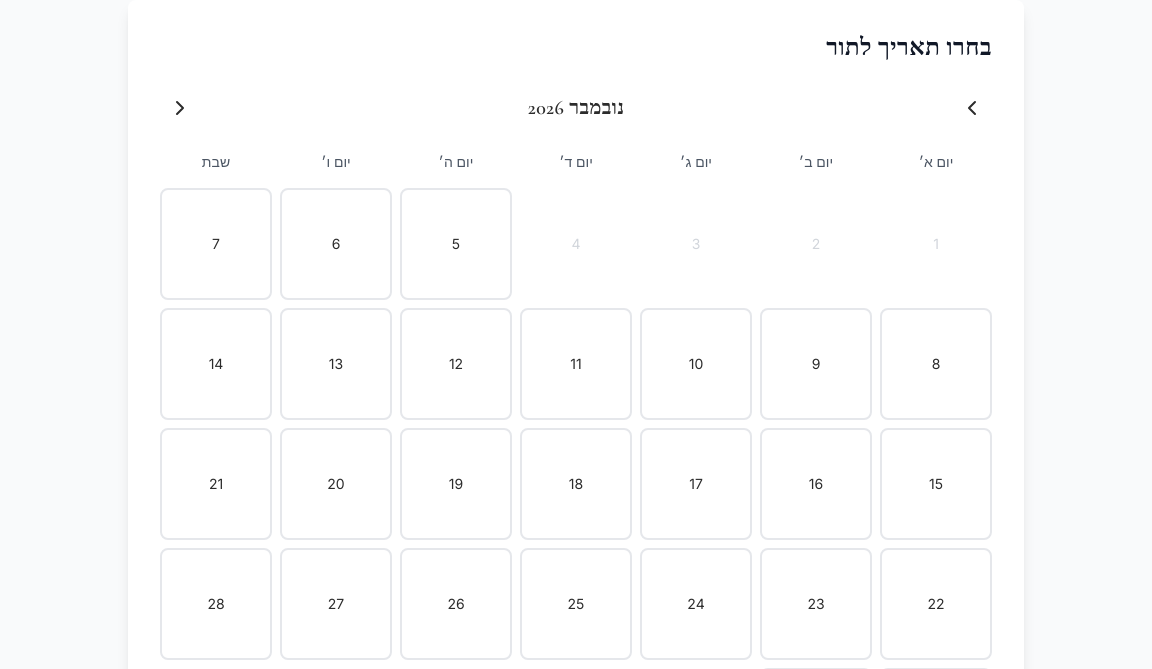
Test: Appointment calendar translations › shows translated labels and weekday names in he
Check: the heading "בחרו תאריך לתור" is shown, box [826,33,992,62]
Check: the button named "החודש הקודם" is shown, box [952,88,992,128]
Step 1. Click the button named "החודש הבא" → (180, 108), box [160,88,200,128]
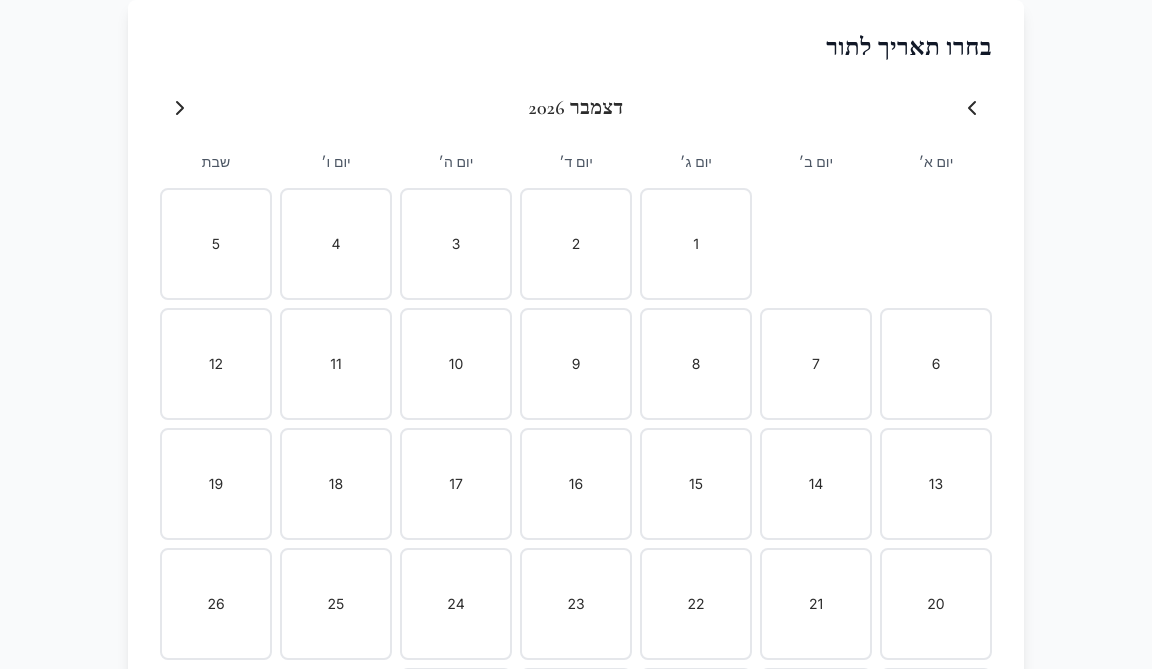
Step 2. Click the button named "החודש הבא" → (180, 108), box [160,88,200,128]
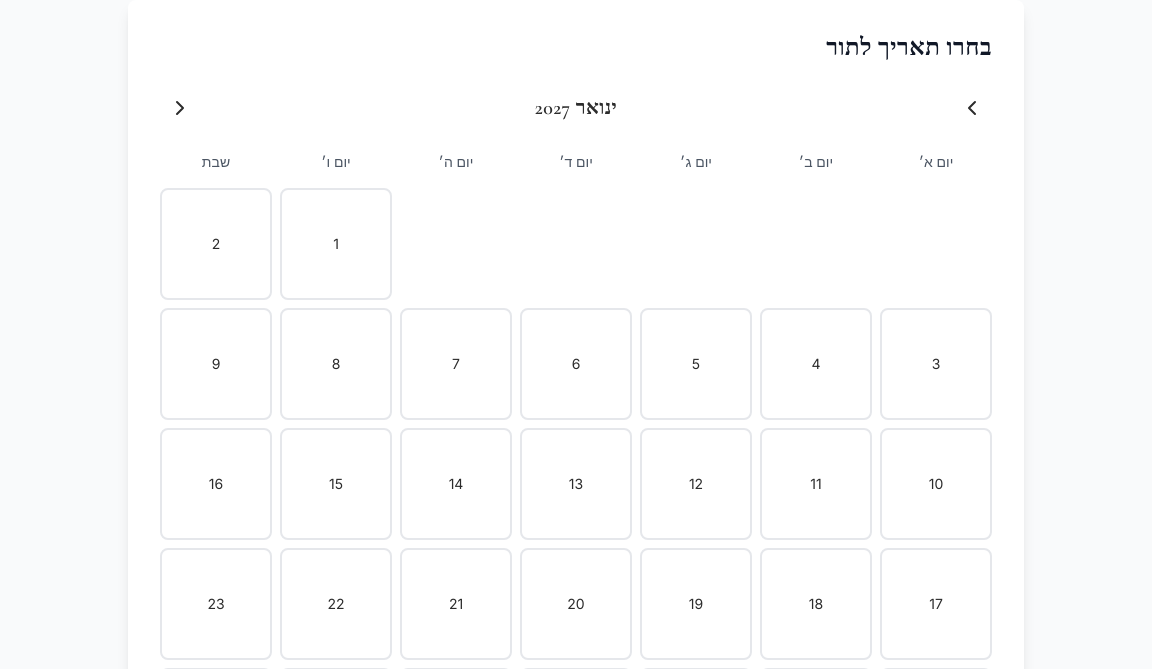
Step 3. Click the button "1" → (336, 244), box [280,188,392,300]
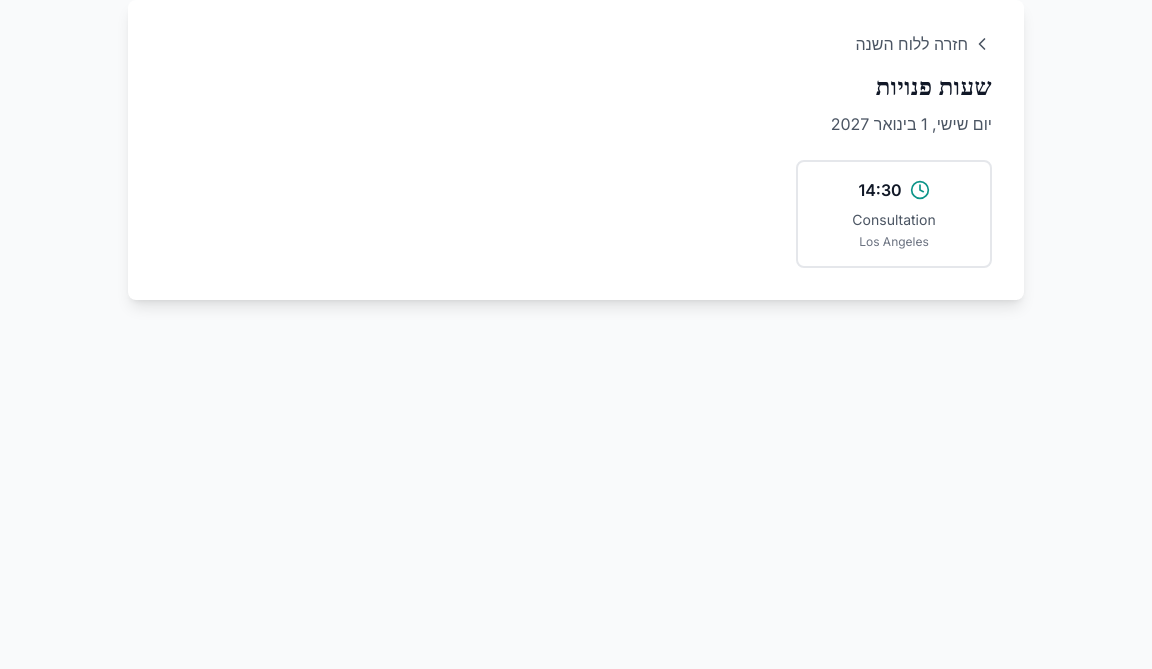
Check: the heading "שעות פנויות" is shown, box [876,73,992,102]
Check: the button "חזרה ללוח השנה" is shown, box [855,32,992,56]
